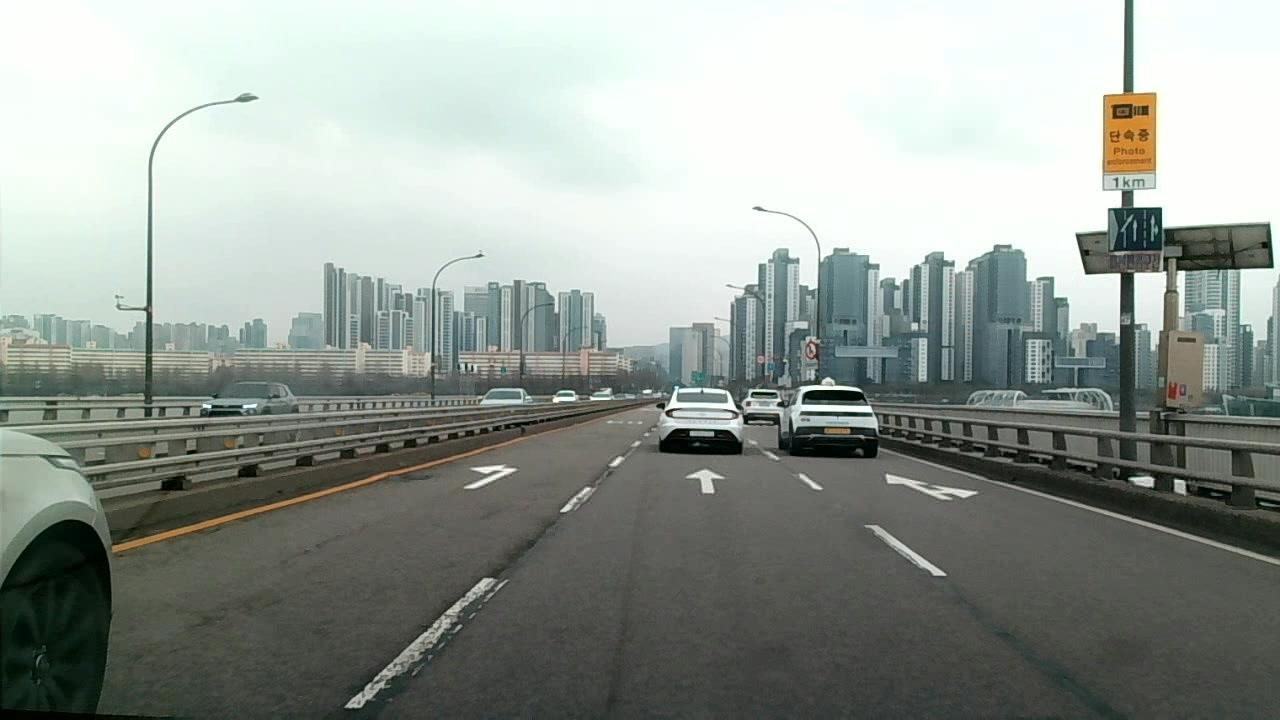vcrack: (954, 586, 1101, 718), (479, 512, 558, 586), (167, 595, 259, 636), (276, 526, 359, 562)
